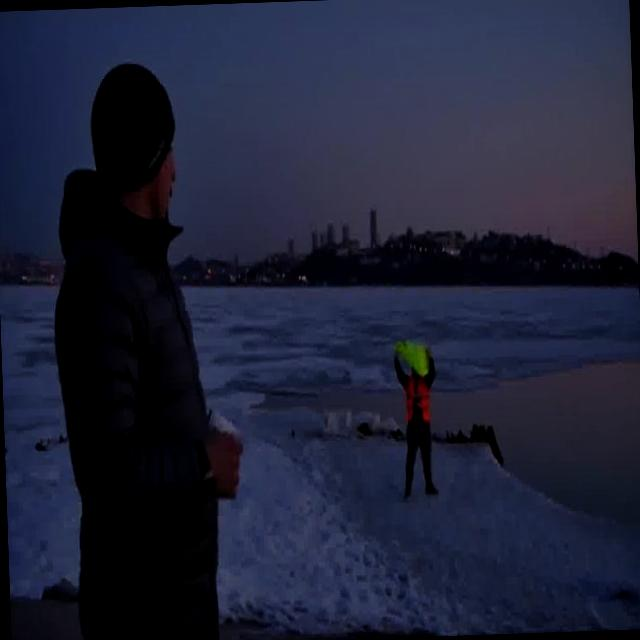no_vest: (59, 260, 258, 638)
vest: (392, 340, 431, 378), (403, 372, 431, 423)
